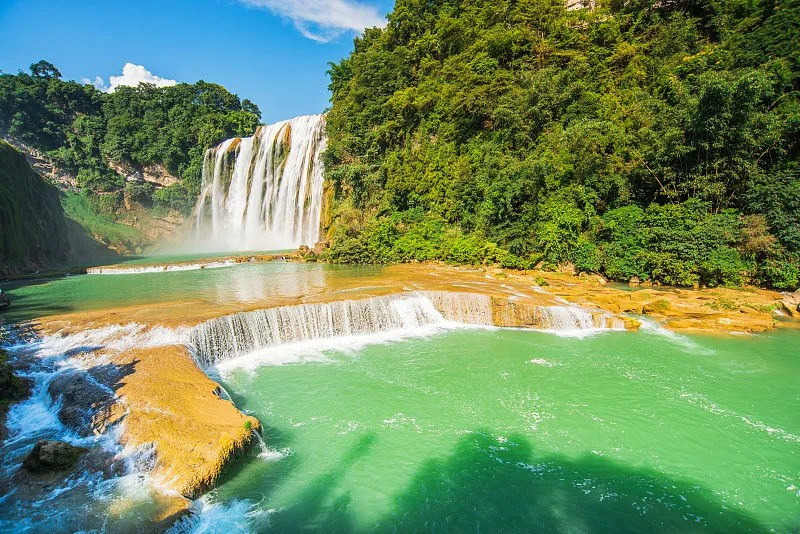Huangguoshu: (194, 114, 323, 252)
